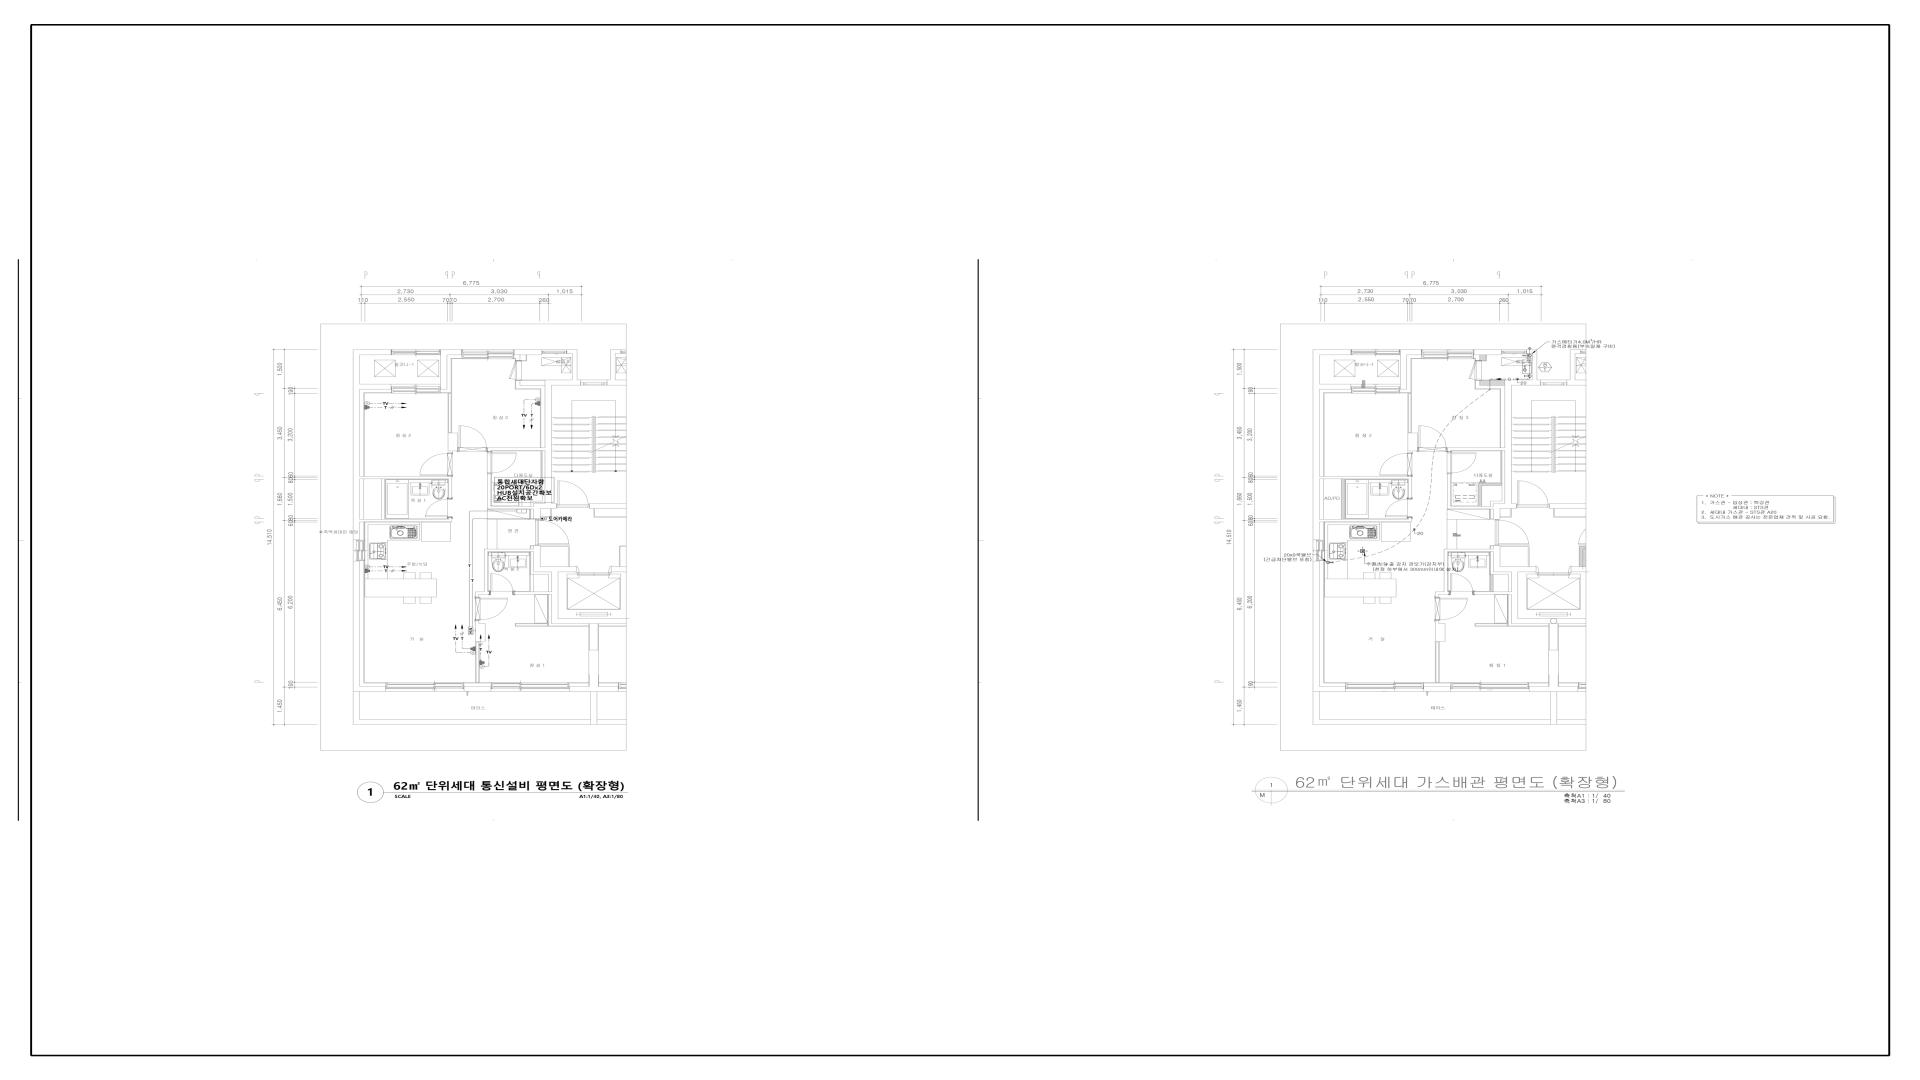door: (1493, 520, 1530, 546), (1516, 480, 1549, 509), (556, 480, 589, 508), (535, 520, 570, 546), (458, 425, 488, 452), (1418, 425, 1448, 451), (419, 452, 452, 476), (1379, 452, 1412, 476), (1435, 597, 1468, 621), (476, 597, 508, 621), (487, 452, 517, 475), (1448, 451, 1477, 473), (489, 572, 514, 595), (425, 498, 452, 518), (1385, 498, 1412, 518), (1449, 574, 1474, 595), (509, 360, 522, 381), (1469, 360, 1482, 381)
wall: (514, 546, 626, 624), (353, 476, 452, 541), (488, 448, 556, 520), (1448, 448, 1516, 520), (353, 349, 392, 476), (1511, 567, 1589, 624), (353, 562, 386, 692), (1313, 560, 1345, 692), (1505, 349, 1540, 448), (545, 349, 580, 448), (476, 549, 534, 597), (1435, 549, 1493, 597), (1313, 518, 1412, 541), (1320, 476, 1412, 498), (1313, 349, 1352, 389), (1530, 674, 1578, 692), (570, 674, 618, 692), (1313, 389, 1320, 520), (1400, 349, 1422, 389), (440, 349, 462, 389), (607, 349, 626, 385), (1567, 349, 1586, 385), (1478, 484, 1502, 506), (588, 624, 599, 674), (1548, 624, 1559, 674), (1493, 546, 1511, 572), (1435, 641, 1440, 683), (1435, 621, 1445, 642), (1549, 504, 1589, 509), (476, 621, 485, 642), (589, 504, 626, 509), (1408, 433, 1418, 451), (448, 433, 458, 451), (1341, 479, 1345, 520), (1474, 349, 1502, 355), (514, 349, 542, 355), (1424, 687, 1451, 692), (464, 687, 491, 692), (1580, 546, 1586, 567), (520, 381, 545, 385), (1480, 381, 1505, 385), (1474, 592, 1511, 595), (1571, 567, 1589, 572), (612, 567, 626, 572), (1490, 574, 1493, 592), (520, 355, 526, 360), (1480, 355, 1486, 360)
window: (386, 682, 464, 690), (491, 682, 570, 688), (1345, 683, 1424, 690), (1451, 683, 1530, 690), (462, 349, 514, 359), (1422, 349, 1474, 359), (1350, 386, 1400, 393), (392, 386, 440, 393), (392, 349, 440, 355), (1352, 349, 1400, 355), (356, 541, 365, 562), (1316, 541, 1325, 560), (580, 382, 607, 385), (1540, 382, 1567, 385), (542, 351, 567, 353), (1502, 351, 1527, 353), (621, 349, 626, 353)
